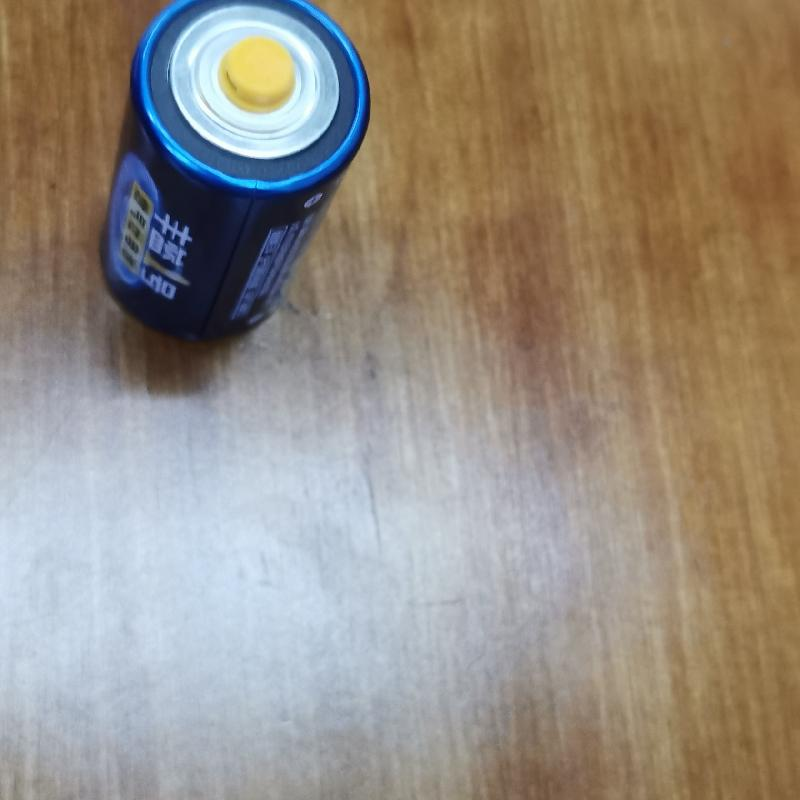battery: (80, 3, 373, 344)
